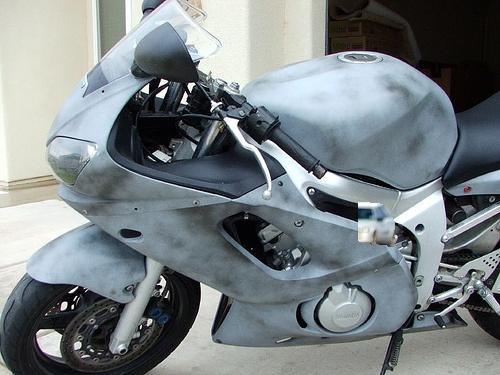tampered: (359, 203, 395, 247)
